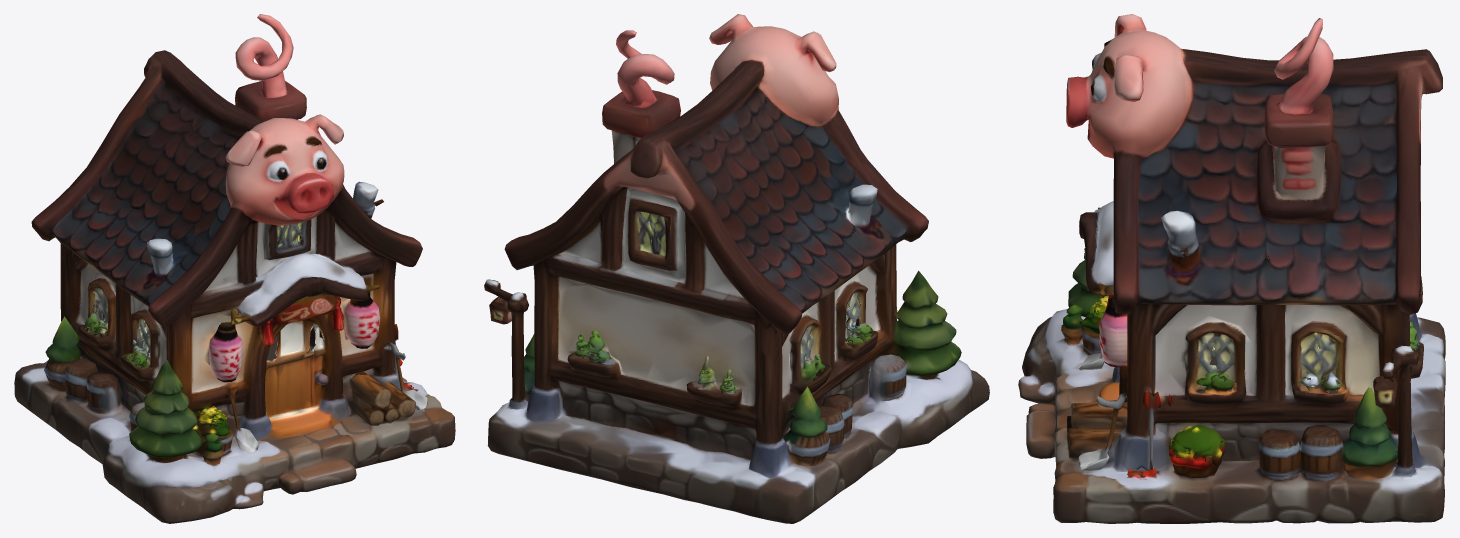
The model's file is pork_house.glb.
3 renders of one model, left to right at view 1: azimuth 30°, elevation 25°; view 2: azimuth 150°, elevation 25°; view 3: azimuth 270°, elevation 25°, orthographic. The views are drawn at different scales.
Parts seen in each view (by area): view 1: world; view 2: world; view 3: world.
Part boxes in pixels (x1,y1,x2,y2): world: [14, 14, 455, 523]; world: [484, 14, 989, 523]; world: [1018, 14, 1445, 523].
Bounding box in the file's own units: 0.909 × 0.9991 × 0.851.
1 material, 1 textured.
